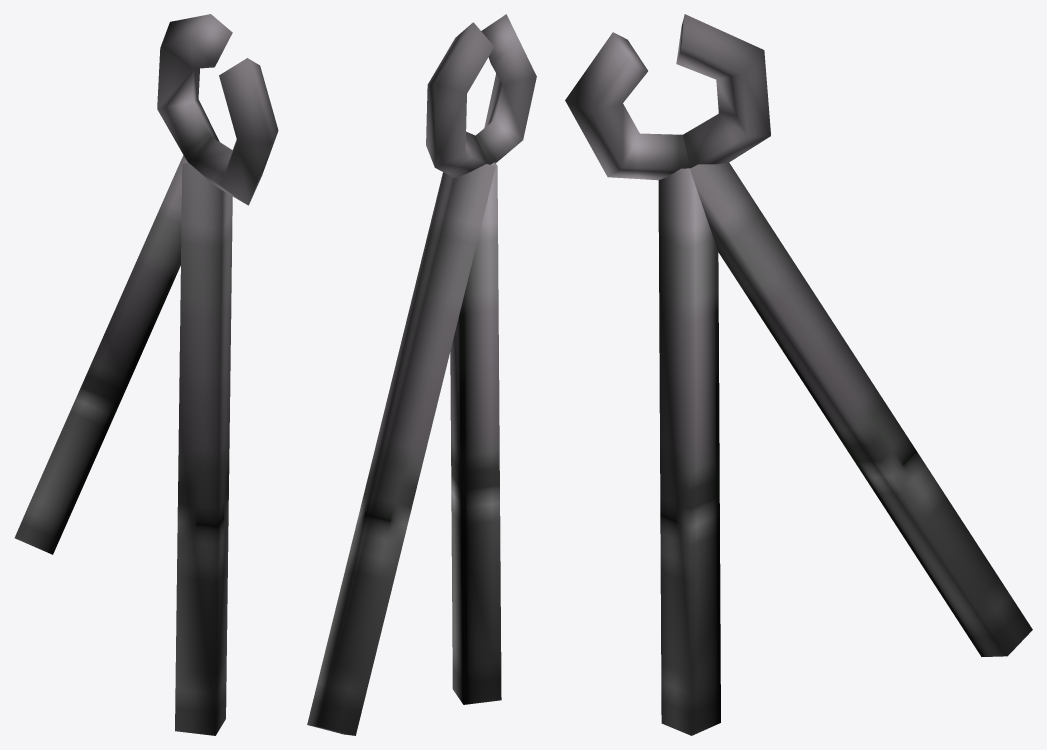
Rendered from tongs.glb.
3 views of the same model, side by side, from view 1: azimuth 30°, elevation 25°; view 2: azimuth 150°, elevation 25°; view 3: azimuth 270°, elevation 25° (orthographic). The views are drawn at different scales.
Parts seen in each view (by area): view 1: WeaponL; view 2: WeaponL; view 3: WeaponL.
Boxes of the visible parts, x1,y1,x2,y2 form: WeaponL: (14, 14, 278, 735); WeaponL: (307, 14, 536, 735); WeaponL: (565, 14, 1032, 735).
Bounding box in the file's own units: 0.058 × 0.6591 × 0.3921.
Materials: 1 (1 with a texture image).
